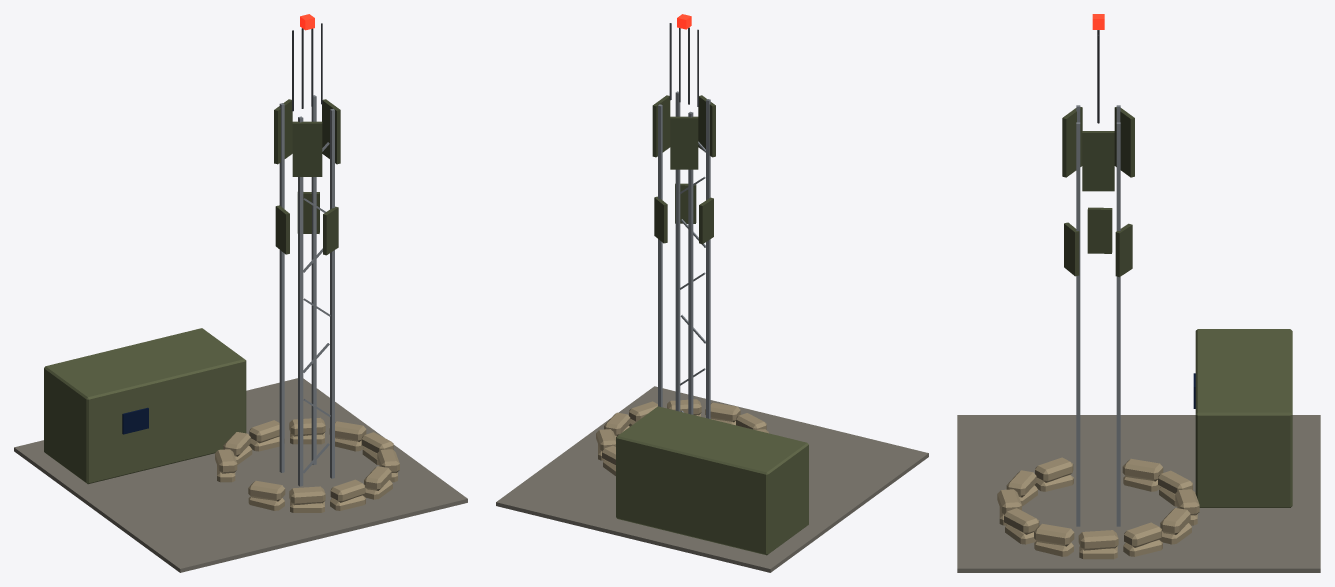
3 renders of one model, left to right at view 1: azimuth 30°, elevation 25°; view 2: azimuth 150°, elevation 25°; view 3: azimuth 270°, elevation 25°, orthographic. The views are drawn at different scales.
Visible parts, largest first — view 1: ew; view 2: ew; view 3: ew.
Part boxes in pixels (box(x1,y1,x2,y2)): ew: box(14, 14, 467, 572); ew: box(496, 14, 928, 572); ew: box(957, 14, 1320, 572).
Bounding box in the file's own units: 9 × 13.8 × 9.
